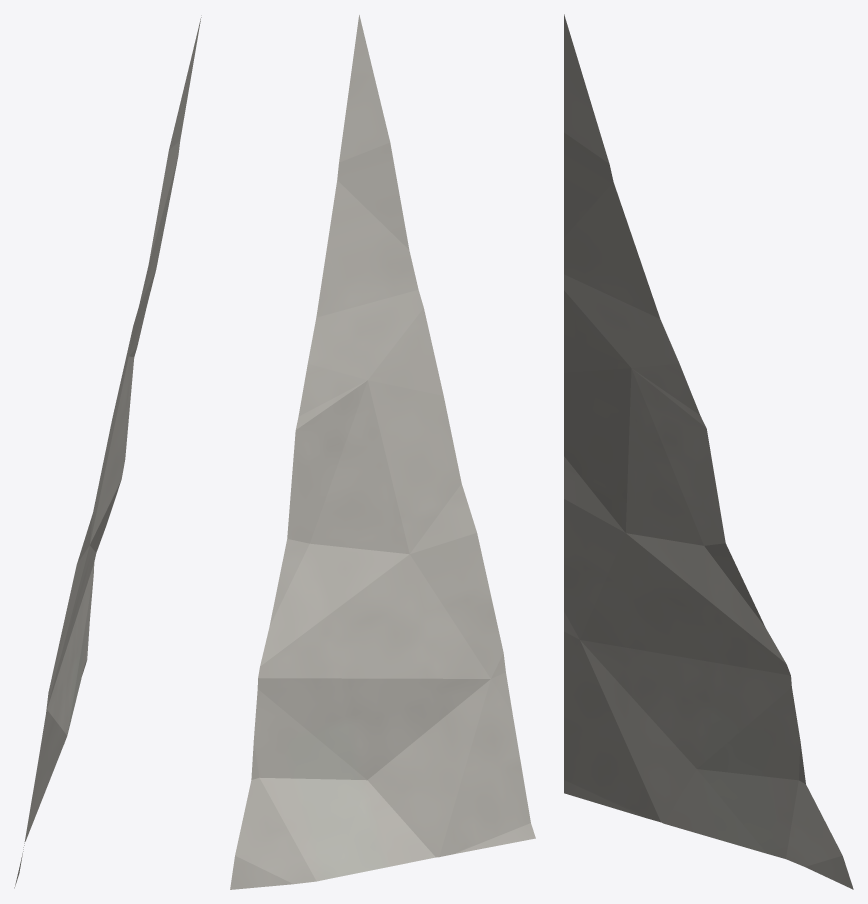
3 renders of one model, left to right at view 1: azimuth 30°, elevation 25°; view 2: azimuth 150°, elevation 25°; view 3: azimuth 270°, elevation 25°, orthographic. The views are drawn at different scales.
Size of the model in its own units: 0.0566 by 0.2391 by 0.0717.
Materials: 1 (1 with a texture image).
